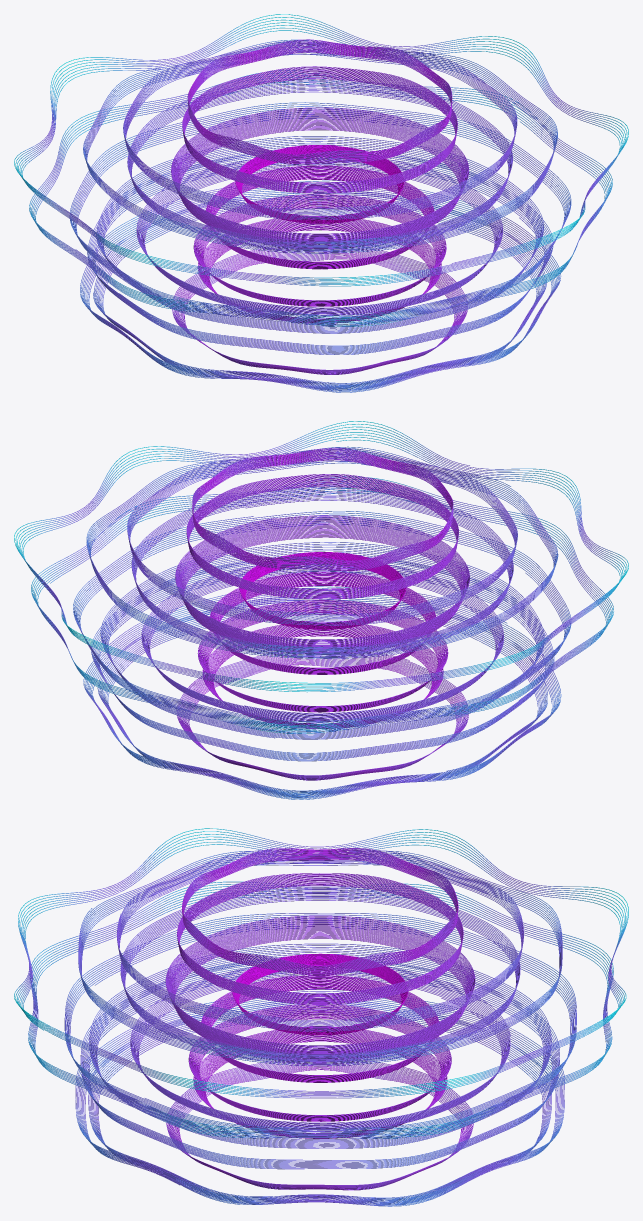
Rendered from coil_3_field_lines.gltf.
3 views of the same model, one above another, from view 1: azimuth 30°, elevation 25°; view 2: azimuth 150°, elevation 25°; view 3: azimuth 270°, elevation 25° (orthographic). The views are drawn at different scales.
Visible parts, largest first — view 1: Renderer Node; view 2: Renderer Node; view 3: Renderer Node.
Boxes of the visible parts, <box> form: Renderer Node: <box>14,14,628,392</box>; Renderer Node: <box>14,421,628,799</box>; Renderer Node: <box>14,828,628,1206</box>.
Size of the model in its own units: 1.09 by 0.4606 by 1.1.
Materials: 1 (1 with a texture image).
